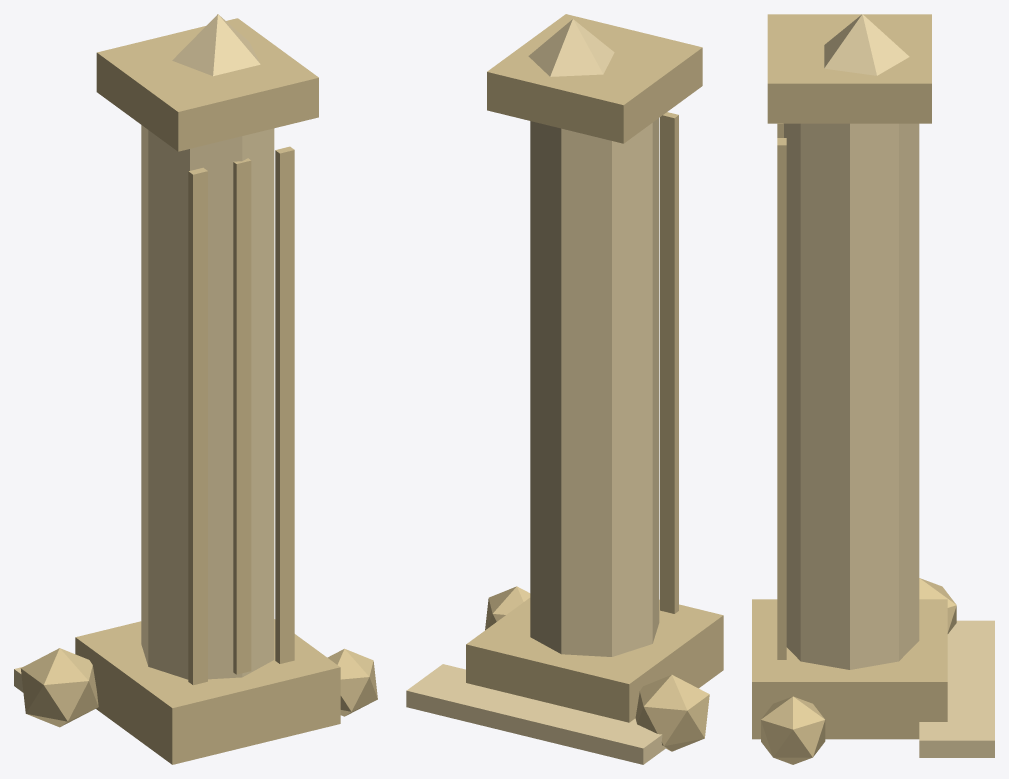
The model's file is sandstone_pillar.glb.
3 renders of one model, left to right at view 1: azimuth 30°, elevation 25°; view 2: azimuth 150°, elevation 25°; view 3: azimuth 270°, elevation 25°, orthographic. The views are drawn at different scales.
Parts seen in each view (by area): view 1: shaft, plinth, capital, flute_0, flute_2, flute_1, rubble_0.001, chip, rubble_1.001; view 2: shaft, plinth, capital, dune.001, flute_0, rubble_0.001, chip, rubble_1.001; view 3: shaft, plinth, capital, dune.001, flute_2, rubble_1.001, chip, rubble_0.001.
Part boxes in pixels (x1,y1,x2,y2): shaft: (141, 125, 274, 679); plinth: (75, 619, 340, 764); capital: (96, 18, 318, 151); flute_0: (188, 167, 207, 685); flute_2: (275, 146, 294, 663); flute_1: (233, 158, 251, 674); rubble_0.001: (20, 648, 98, 727); chip: (172, 14, 260, 76); rubble_1.001: (327, 648, 377, 716); shaft: (530, 118, 659, 656); plinth: (466, 598, 723, 722); capital: (487, 14, 702, 143); dune.001: (406, 664, 666, 764); flute_0: (660, 112, 678, 613); rubble_0.001: (635, 675, 709, 751); chip: (528, 19, 614, 76); rubble_1.001: (485, 586, 530, 630); shaft: (784, 123, 919, 669); plinth: (752, 599, 947, 739); capital: (767, 14, 931, 123); dune.001: (919, 620, 994, 757); flute_2: (777, 138, 786, 659); rubble_1.001: (761, 696, 825, 764); chip: (824, 14, 909, 75); rubble_0.001: (919, 578, 956, 633).
Bounding box in the file's own units: 1.05 × 2.48 × 0.77.
